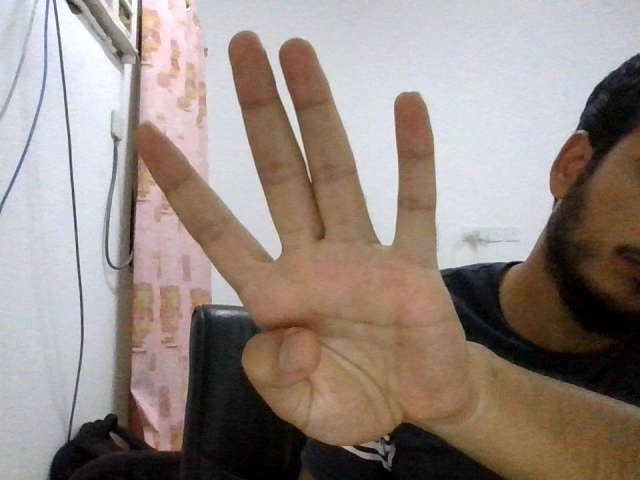Four: (133, 31, 467, 457)
